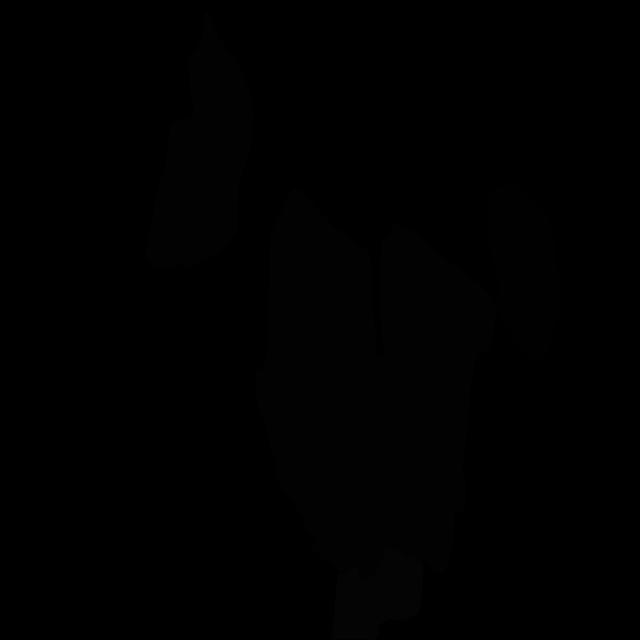cardboard: (255, 188, 424, 579), (379, 221, 496, 542), (144, 12, 253, 269), (394, 512, 455, 573)
rigid_plastic: (487, 185, 563, 361)
soft_plastic: (332, 547, 424, 640)
